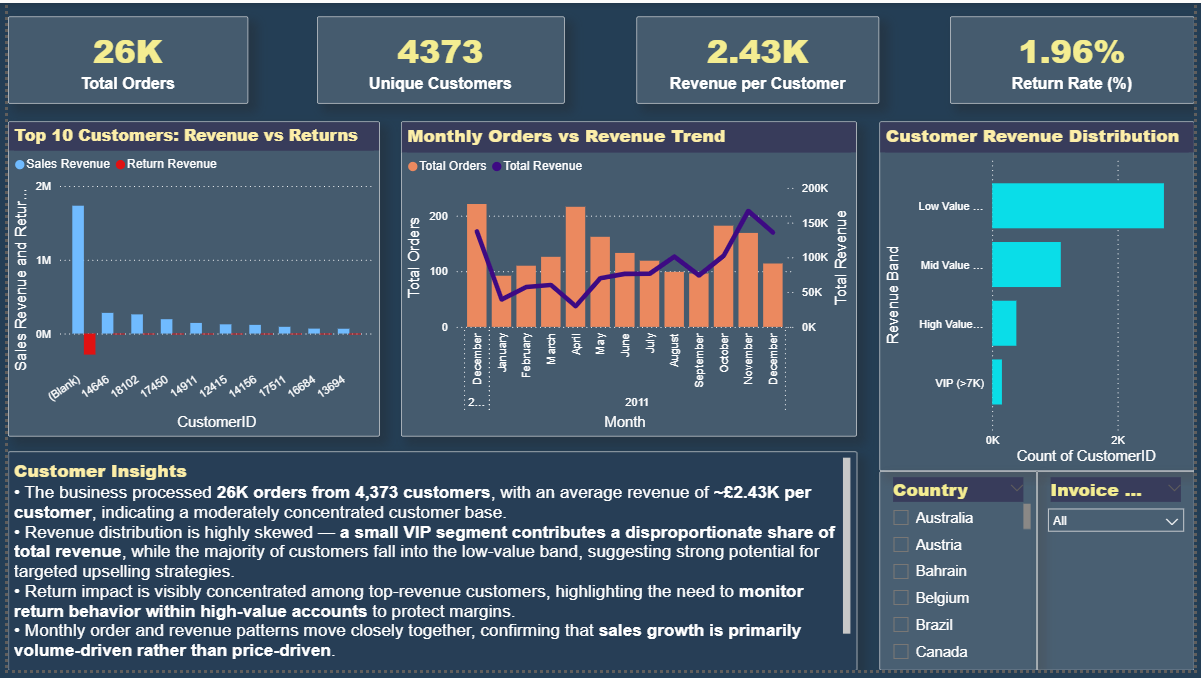

This screenshot's page, from the dashboard's own definition file:
{"tool":"powerbi","page":{"name":"Sales & customer performance","canvas":[1280,720],"ordinal":1},"visuals":[{"type":"card","fields":{"Values":["uk_ecommerce_bi_ready.Total Orders"]},"box":[0,14.6,259.1,93.9],"z":0},{"type":"card","fields":{"Values":["uk_ecommerce_bi_ready.Unique Customers"]},"box":[333.6,14.6,267.2,93.9],"z":1000},{"type":"card","fields":{"Values":["uk_ecommerce_bi_ready.Revenue per Customer"]},"box":[678.5,14.6,262.3,93.9],"z":2000},{"type":"card","fields":{"Values":["uk_ecommerce_bi_ready.Return Rate (%)"]},"box":[1016.9,14.6,263.9,93.9],"z":3000},{"type":"lineClusteredColumnComboChart","title":"Monthly Orders vs Revenue Trend","fields":{"Category":["uk_ecommerce_bi_ready.InvoiceDate.Variation.Date Hierarchy.Year","uk_ecommerce_bi_ready.InvoiceDate.Variation.Date Hierarchy.Month"],"Y":["uk_ecommerce_bi_ready.Total Orders"],"Y2":["uk_ecommerce_bi_ready.Total Revenue"]},"box":[424.2,127.9,492.2,340],"z":4000},{"type":"clusteredColumnChart","title":"Top 10 Customers: Revenue vs Returns","fields":{"Category":["uk_ecommerce_bi_ready.CustomerID"],"Y":["uk_ecommerce_bi_ready.Sales Revenue","uk_ecommerce_bi_ready.Return Revenue"]},"box":[0,127.9,401.6,340],"z":5000},{"type":"clusteredBarChart","title":"Customer Revenue Distribution","fields":{"Category":["Customer Summary.Revenue Band"],"Y":["Count(Customer Summary.CustomerID)"]},"box":[940.8,127.9,340,377.3],"z":6000},{"type":"textbox","box":[0,484.1,916.5,236.4],"z":7000},{"type":"slicer","fields":{"Values":["uk_ecommerce_bi_ready.Country"]},"box":[940.8,505.2,170,215.4],"z":8000},{"type":"slicer","fields":{"Values":["uk_ecommerce_bi_ready.InvoiceDate"]},"box":[1110.8,505.2,170,215.4],"z":9000}]}

Visuals, with their boxes in screenshot pixels (x1, y1, x2, y2), scaled from the page's 1280x720 canvas onto the 1201x678 screenshot:
card - uk_ecommerce_bi_ready.Total Orders: select_region(0, 14, 243, 102)
card - uk_ecommerce_bi_ready.Unique Customers: select_region(313, 14, 564, 102)
card - uk_ecommerce_bi_ready.Revenue per Customer: select_region(637, 14, 883, 102)
card - uk_ecommerce_bi_ready.Return Rate (%): select_region(954, 14, 1200, 102)
"Monthly Orders vs Revenue Trend" lineClusteredColumnComboChart: select_region(398, 120, 860, 441)
"Top 10 Customers: Revenue vs Returns" clusteredColumnChart: select_region(0, 120, 377, 441)
"Customer Revenue Distribution" clusteredBarChart: select_region(883, 120, 1200, 476)
textbox: select_region(0, 456, 860, 677)
slicer - uk_ecommerce_bi_ready.Country: select_region(883, 476, 1042, 677)
slicer - uk_ecommerce_bi_ready.InvoiceDate: select_region(1042, 476, 1200, 677)
